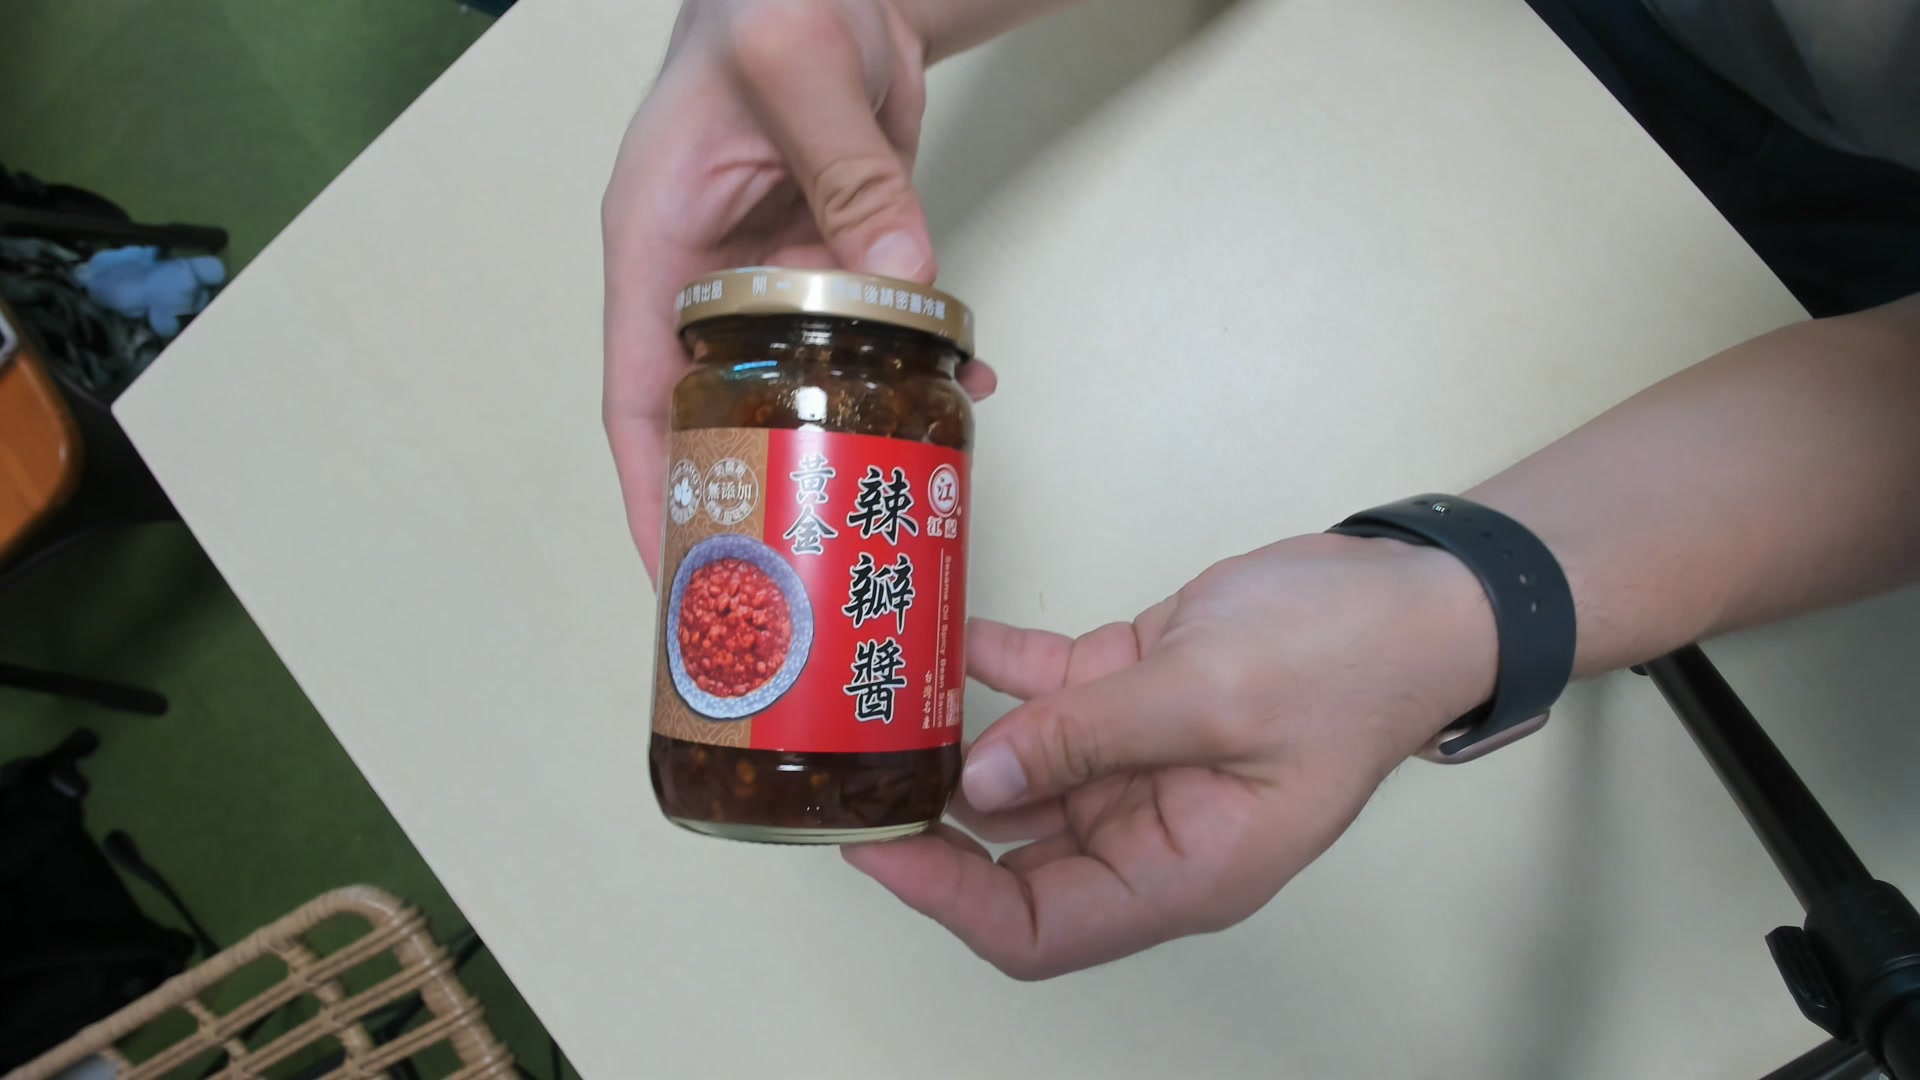OtherSauceDressing_300-399g_NonHalal_NonHealthy: (649, 264, 1000, 847)
